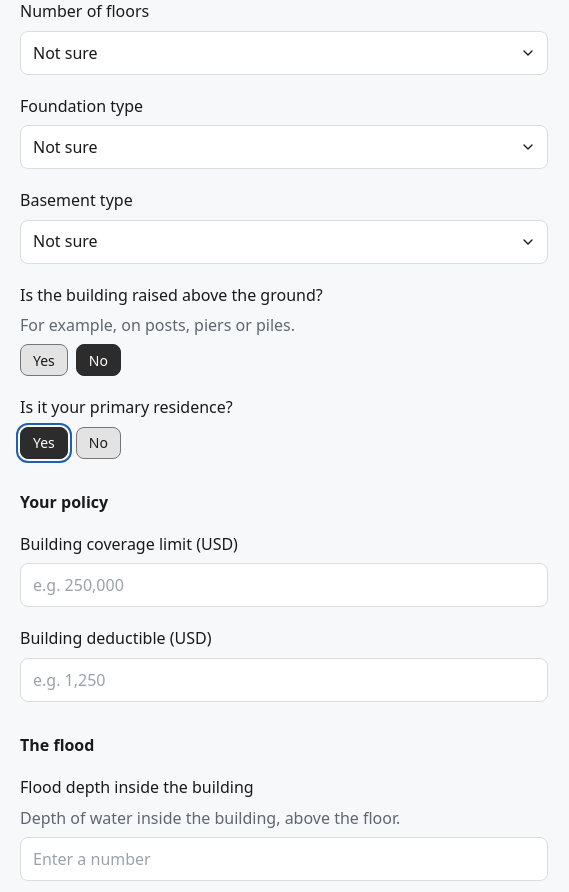
Test: app flow › Change inputs keeps the answers; Start over clears them
The image size is (569, 892).
Earlier steps of the test are not shown.
(page scrolled)
Type "250,000" into the field labelled "Building coverage limit (USD)" at point(284, 586), box [20, 564, 548, 608]
Type "1250" into the field labelled "Building deductible (USD)" at point(284, 680), box [20, 658, 548, 702]
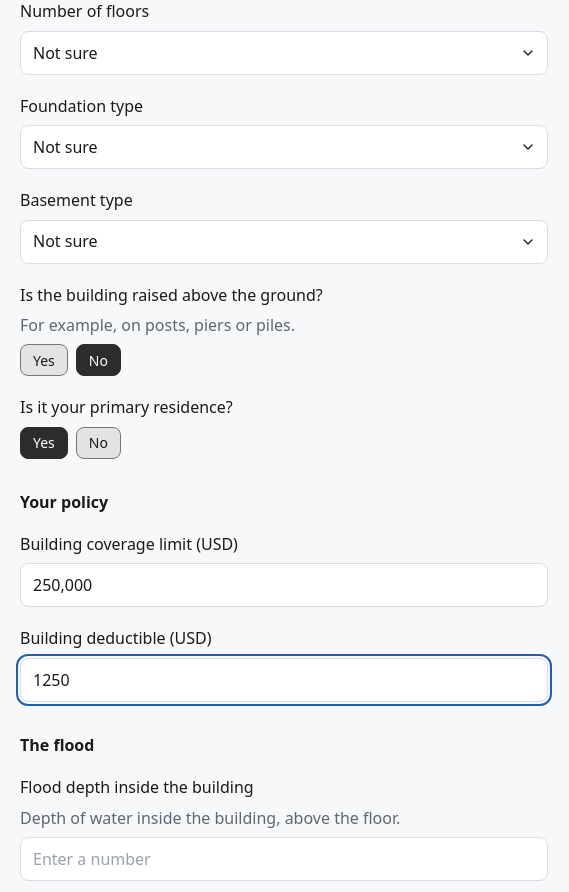
Type "12" into the field labelled "Flood depth inside the building" at point(284, 859), box [20, 837, 548, 881]
(page scrolled)
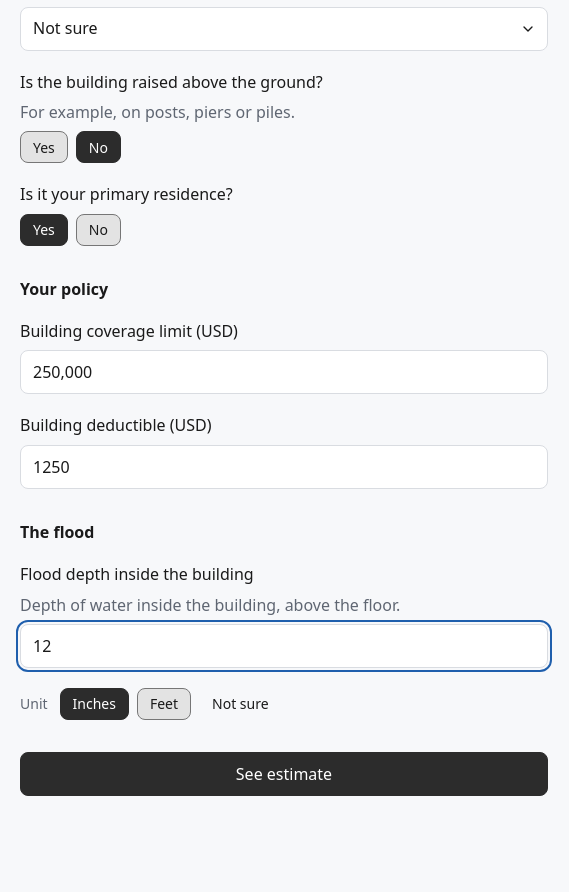
Click the button "See estimate" at point(284, 774), box [20, 752, 548, 796]
(page scrolled)
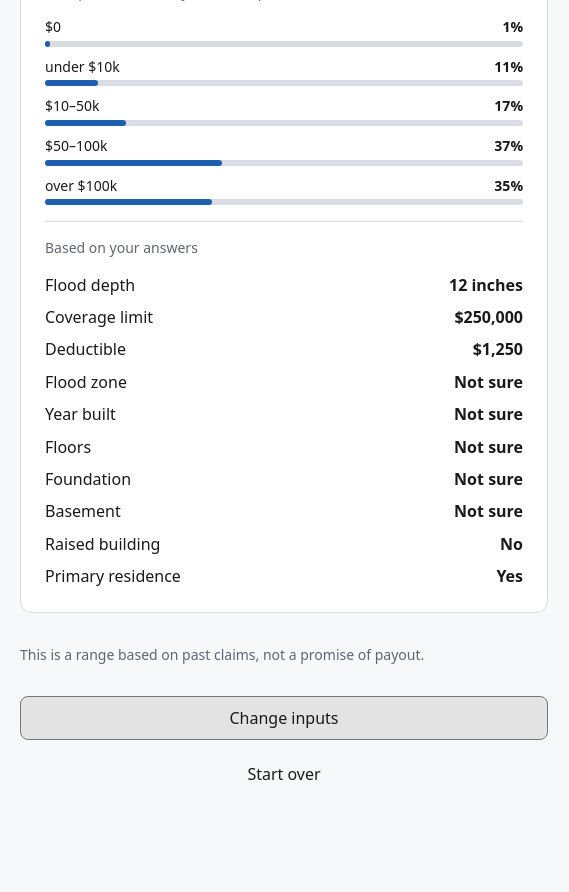
Click the button "Change inputs" at point(284, 718), box [20, 696, 548, 740]
(page scrolled)
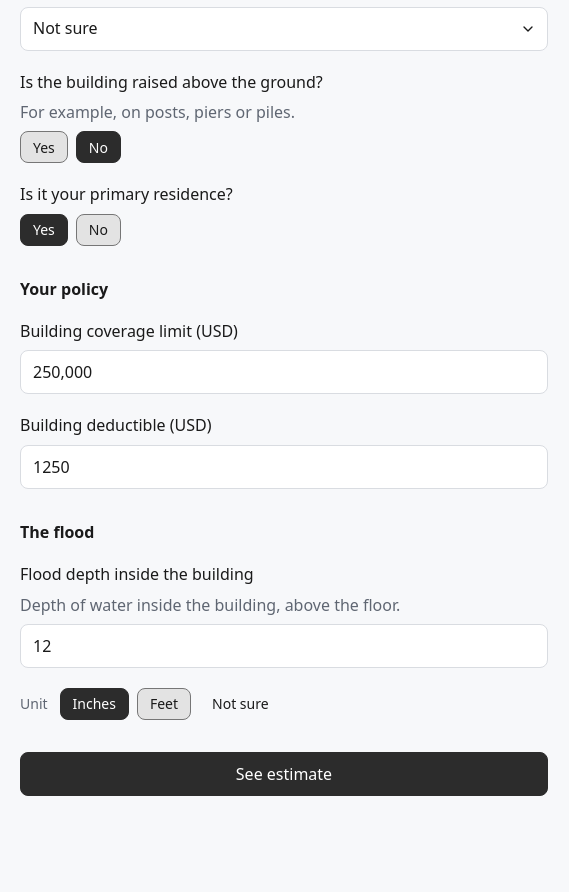
Result: the field labelled "Building coverage limit (USD)" holds "250,000" at [20, 350, 548, 394]
Click the button "See estimate" at point(284, 774), box [20, 752, 548, 796]
(page scrolled)
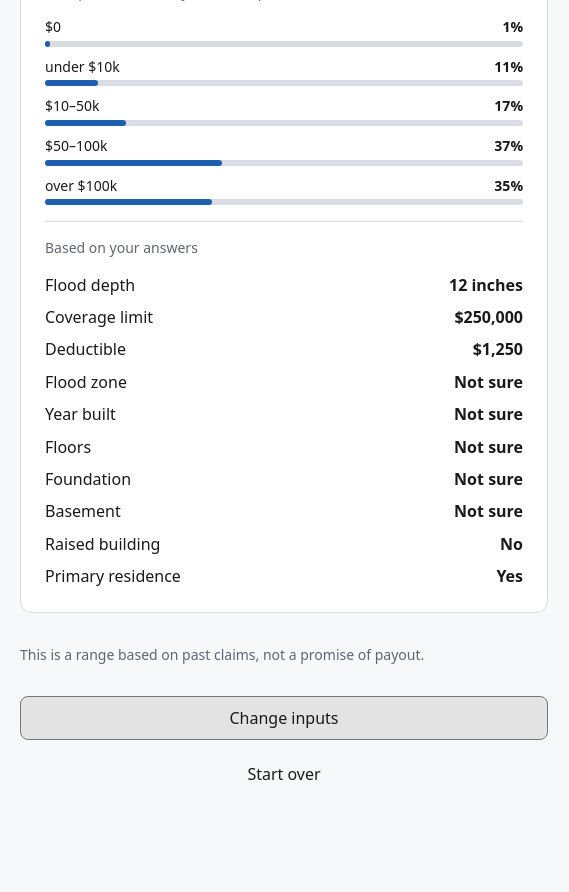
Click the button "Start over" at point(284, 774), box [20, 752, 548, 796]
(page scrolled)
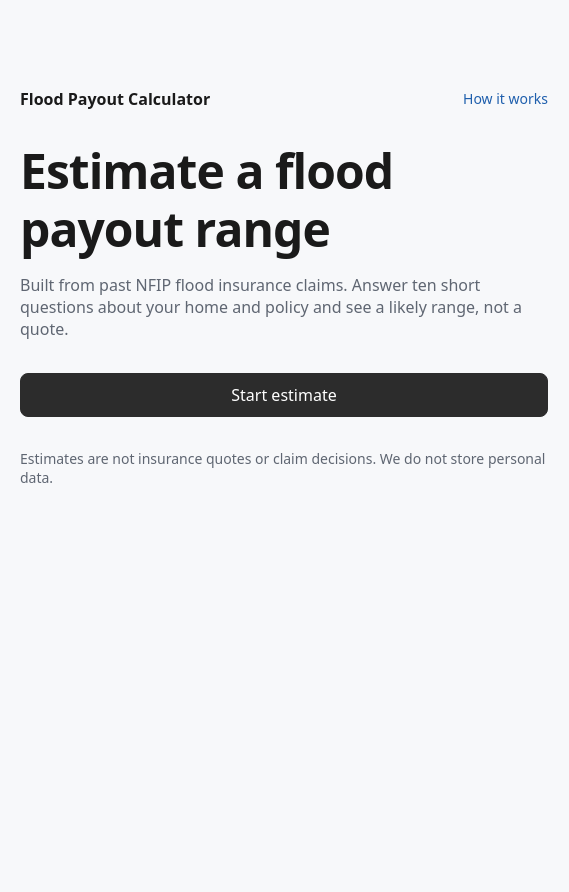
Result: the heading "Estimate a flood payout range" is shown at [20, 138, 393, 261]
